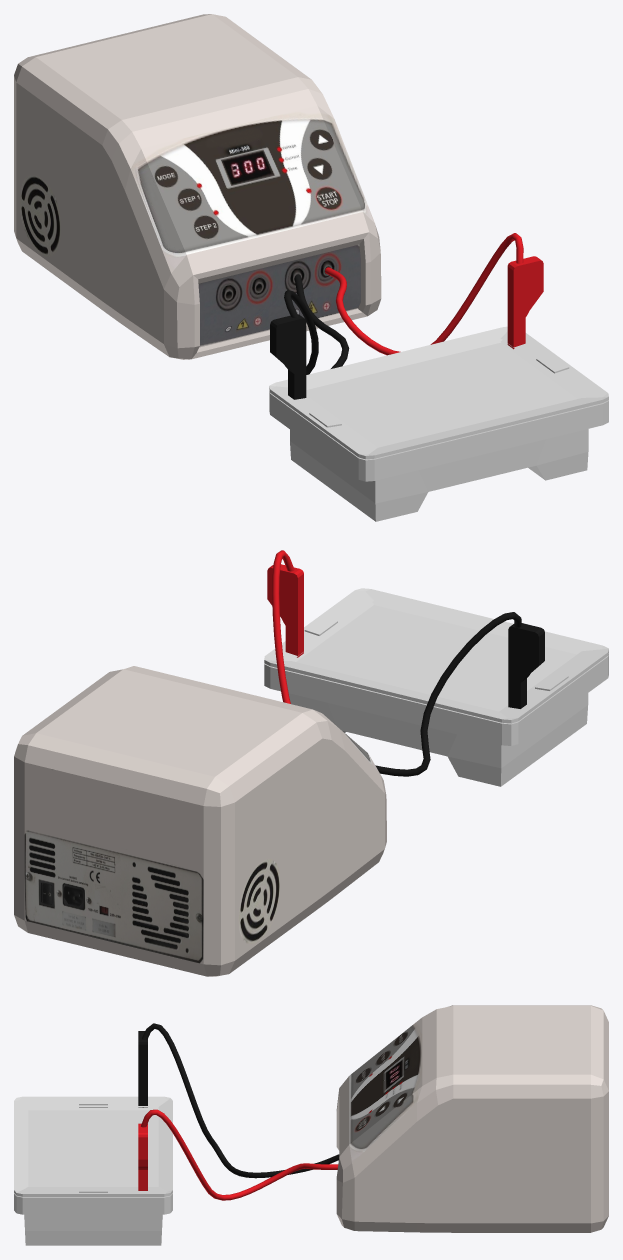
The model's file is Eletroforese.fbx.
The picture shows the model from 3 angles, top to bottom: view 1: azimuth 30°, elevation 25°; view 2: azimuth 150°, elevation 25°; view 3: azimuth 270°, elevation 25°; orthographic projection. The views are drawn at different scales.
Visible parts, largest first — view 1: Cube.002, Cube, Cube.004, Cube.001, Cube.003, BezierCurve.001, BezierCurve; view 2: Cube.002, Cube, Cube.004, Cube.003, Cube.001, BezierCurve, BezierCurve.001; view 3: Cube.002, Cube, Cube.004, BezierCurve, BezierCurve.001, Cube.003, Cube.001.
Boxes of the visible parts, x1,y1,x2,y2 form: Cube.002: [14, 14, 381, 359]; Cube: [269, 342, 608, 521]; Cube.004: [269, 326, 608, 459]; Cube.001: [507, 256, 543, 349]; Cube.003: [270, 314, 306, 399]; BezierCurve.001: [325, 233, 523, 355]; BezierCurve: [284, 274, 349, 374]; Cube.002: [14, 666, 386, 976]; Cube: [264, 604, 608, 786]; Cube.004: [264, 588, 608, 723]; Cube.003: [508, 623, 544, 708]; Cube.001: [267, 564, 303, 657]; BezierCurve: [375, 612, 521, 776]; BezierCurve.001: [272, 550, 294, 703]; Cube.002: [336, 1005, 608, 1232]; Cube: [14, 1097, 172, 1245]; Cube.004: [14, 1096, 172, 1196]; BezierCurve: [142, 1023, 339, 1178]; BezierCurve.001: [141, 1109, 338, 1200]; Cube.003: [138, 1031, 147, 1107]; Cube.001: [138, 1123, 147, 1190].
Size of the model in its own units: 261 by 190 by 628.
5 materials, 1 textured.
